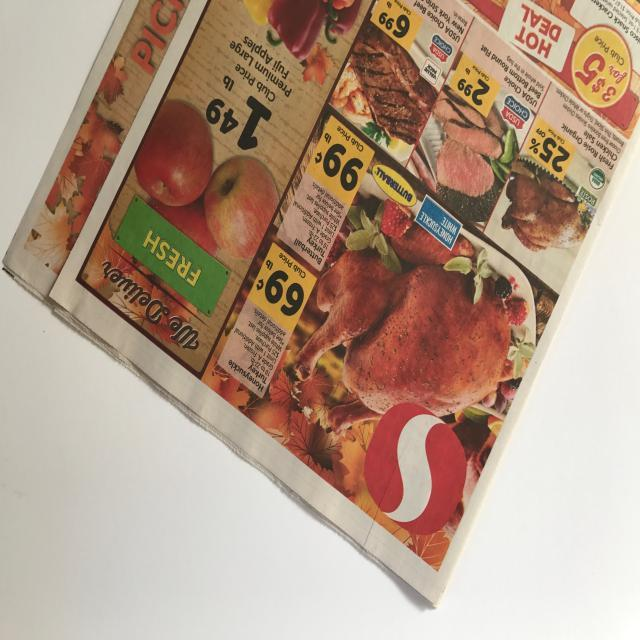paper: (0, 2, 640, 601)
